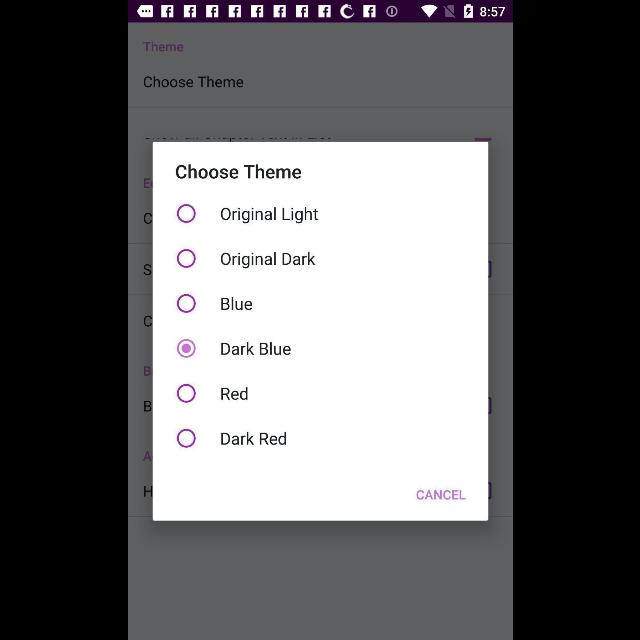checkbox: (177, 339, 196, 358), (177, 248, 195, 268), (176, 384, 194, 404), (176, 428, 194, 448), (176, 204, 194, 222), (176, 294, 194, 312)
panel: (152, 143, 488, 522)
text: (175, 164, 301, 180), (220, 207, 318, 223), (220, 252, 314, 268), (142, 76, 242, 88), (220, 342, 290, 356), (220, 432, 286, 446), (416, 490, 464, 500), (143, 42, 183, 52), (221, 298, 251, 310), (220, 388, 246, 400)
uppertaskbar: (128, 1, 512, 23)
